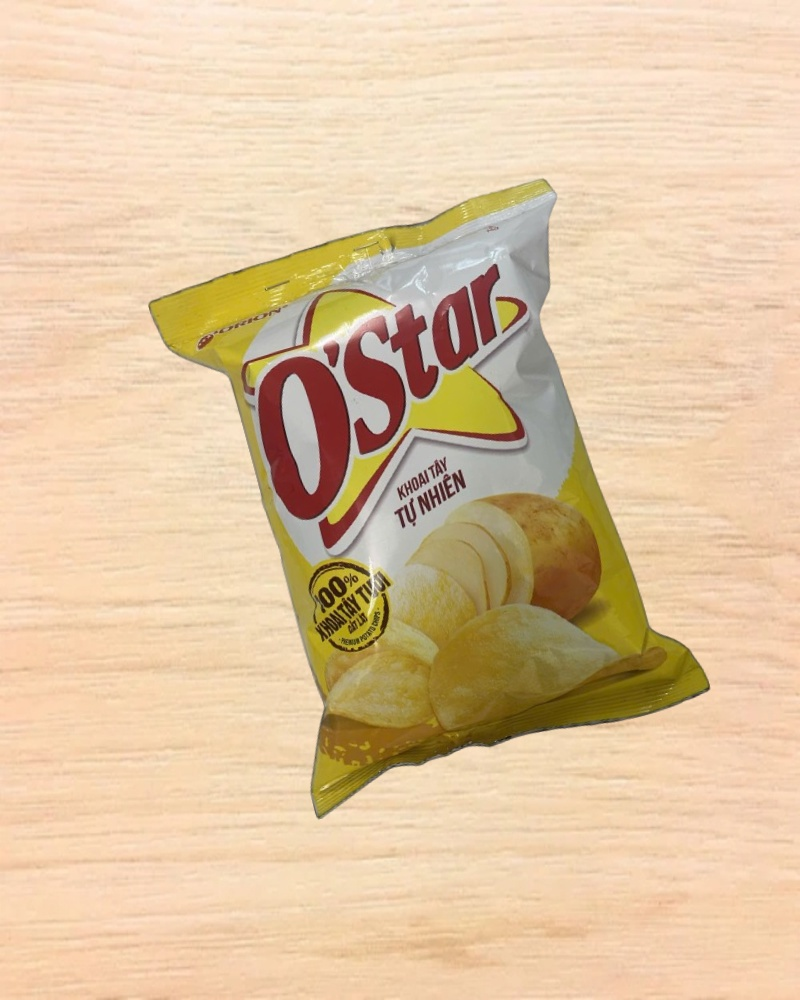O'star: (145, 171, 717, 827)
